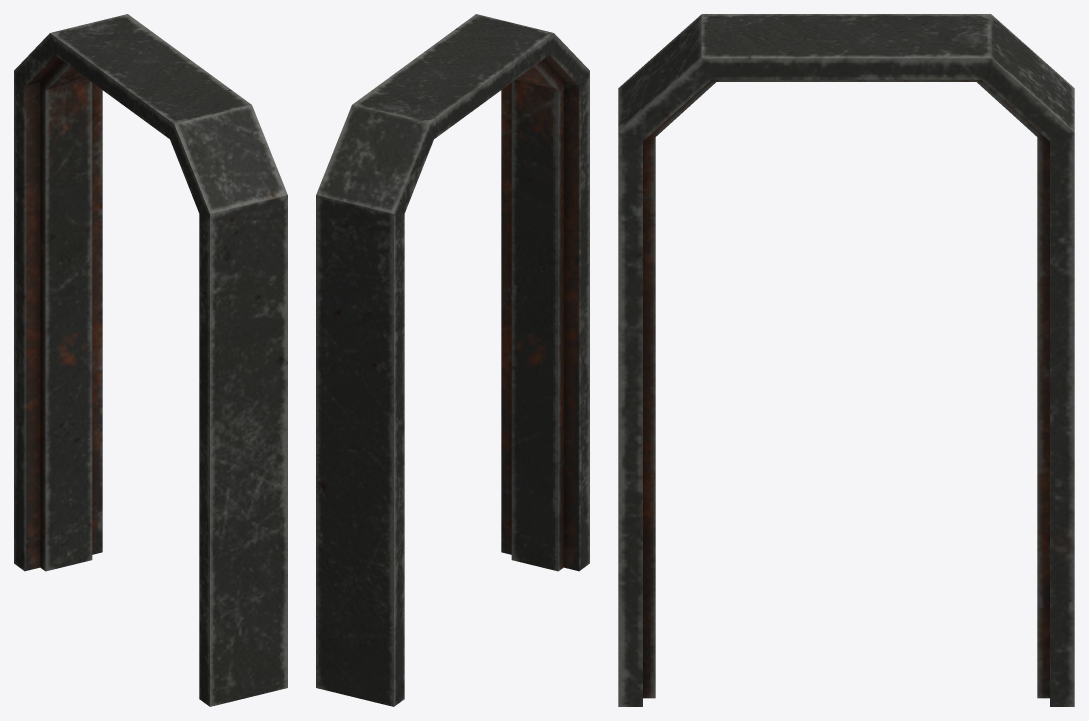
File: DoorFrame.FBX
3 views of the same model, side by side, from view 1: azimuth 30°, elevation 25°; view 2: azimuth 150°, elevation 25°; view 3: azimuth 270°, elevation 25° (orthographic). The views are drawn at different scales.
Visible parts, largest first — view 1: DoorFrame; view 2: DoorFrame; view 3: DoorFrame.
Part boxes in pixels (bbox=[...]): DoorFrame: bbox=[14, 14, 287, 706]; DoorFrame: bbox=[316, 14, 589, 706]; DoorFrame: bbox=[618, 14, 1074, 706].
Size of the model in its own units: 13.49 by 92.22 by 58.83.
